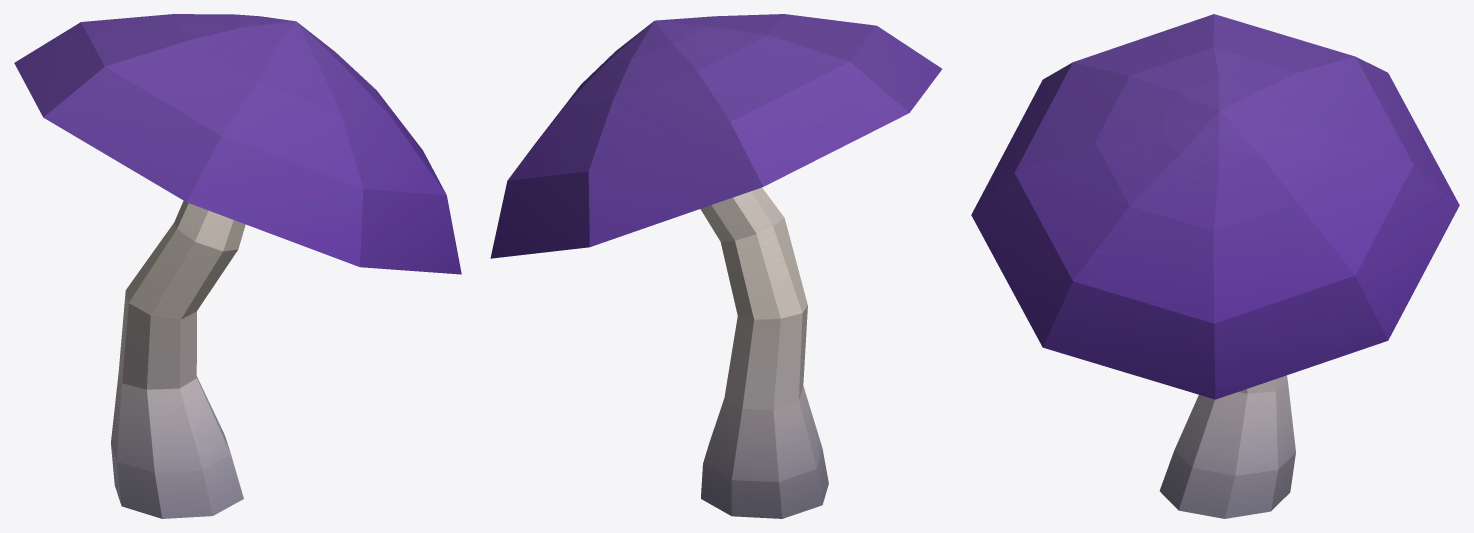
Rendered from Mushroom_Pink.fbx.
The picture shows the model from 3 angles, left to right: view 1: azimuth 30°, elevation 25°; view 2: azimuth 150°, elevation 25°; view 3: azimuth 270°, elevation 25°; orthographic projection. The views are drawn at different scales.
Parts seen in each view (by area): view 1: Mushroom 2; view 2: Mushroom 2; view 3: Mushroom 2.
Part boxes in pixels (x1=…): Mushroom 2: x1=14, y1=14, x2=461, y2=518; Mushroom 2: x1=490, y1=14, x2=941, y2=518; Mushroom 2: x1=971, y1=14, x2=1459, y2=518.
Size of the model in its own units: 157 by 176 by 174.
